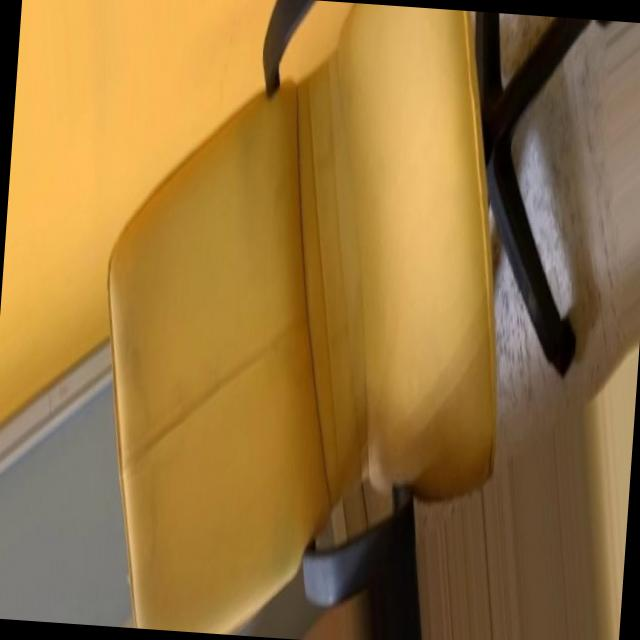Chair: (78, 0, 623, 640)
